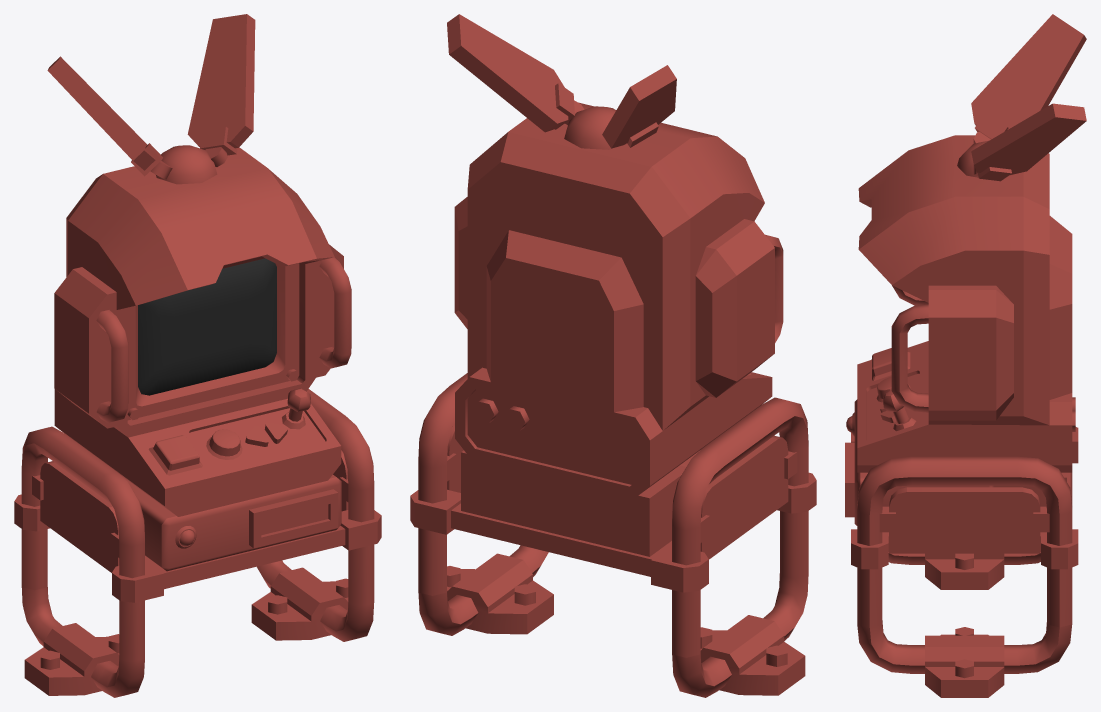
File: obj_interactive_mapinspector.fbx
3 views of the same model, side by side, from view 1: azimuth 30°, elevation 25°; view 2: azimuth 150°, elevation 25°; view 3: azimuth 270°, elevation 25° (orthographic). The views are drawn at different scales.
Visible parts, largest first — view 1: obj_interactive_mapinspector; view 2: obj_interactive_mapinspector; view 3: obj_interactive_mapinspector.
Part boxes in pixels (x1,y1,x2,y2): obj_interactive_mapinspector: [14, 14, 381, 697]; obj_interactive_mapinspector: [410, 14, 816, 697]; obj_interactive_mapinspector: [845, 14, 1086, 697].
Size of the model in its own units: 5.06 by 8.66 by 3.37.
